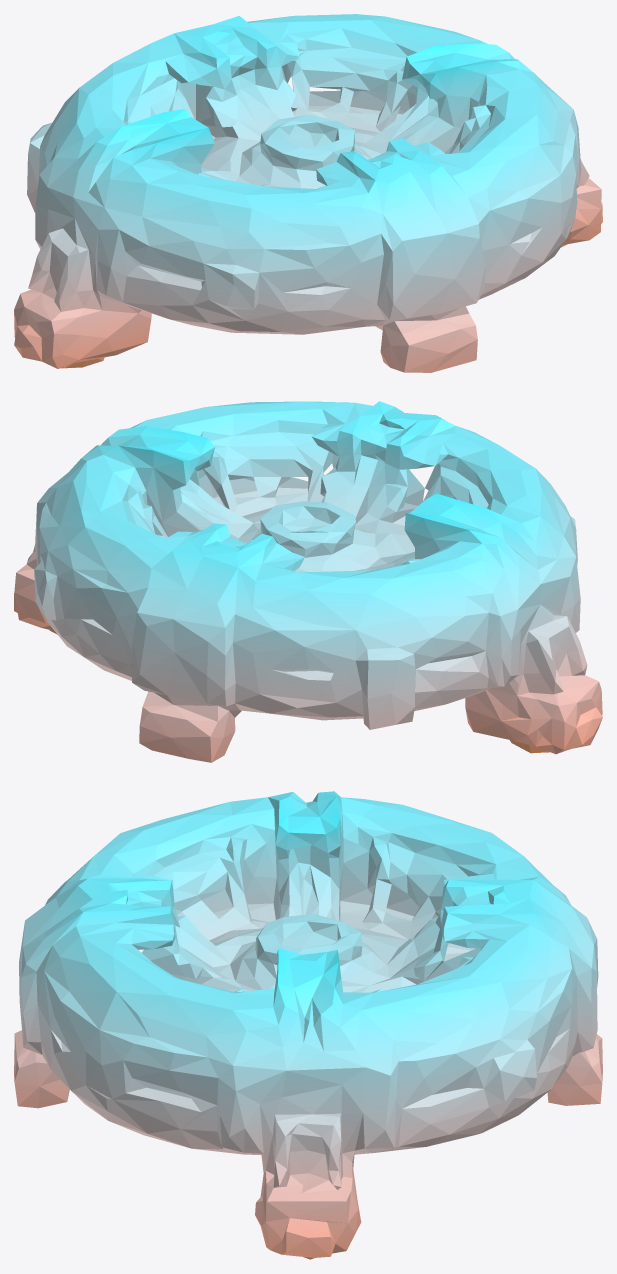
The model's file is 185_cyb_laser_gradient_fish_scales_2847_2026_10_03_95558d.glb.
3 views of the same model, one above another, from view 1: azimuth 30°, elevation 25°; view 2: azimuth 150°, elevation 25°; view 3: azimuth 270°, elevation 25° (orthographic). The views are drawn at different scales.
Visible parts, largest first — view 1: geometry_0; view 2: geometry_0; view 3: geometry_0.
Boxes of the visible parts, bbox=[...] form: geometry_0: bbox=[14, 14, 602, 372]; geometry_0: bbox=[14, 401, 602, 762]; geometry_0: bbox=[14, 791, 602, 1259].
Bounding box in the file's own units: 1 × 0.3649 × 0.8107.
